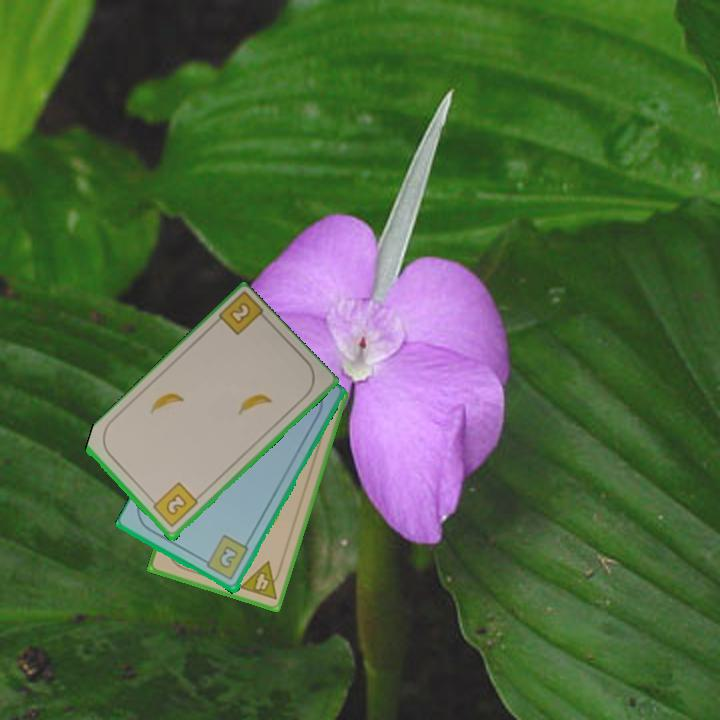2b: (147, 479, 201, 530), (199, 532, 251, 583), (226, 299, 254, 327)
4p: (236, 558, 285, 603)
